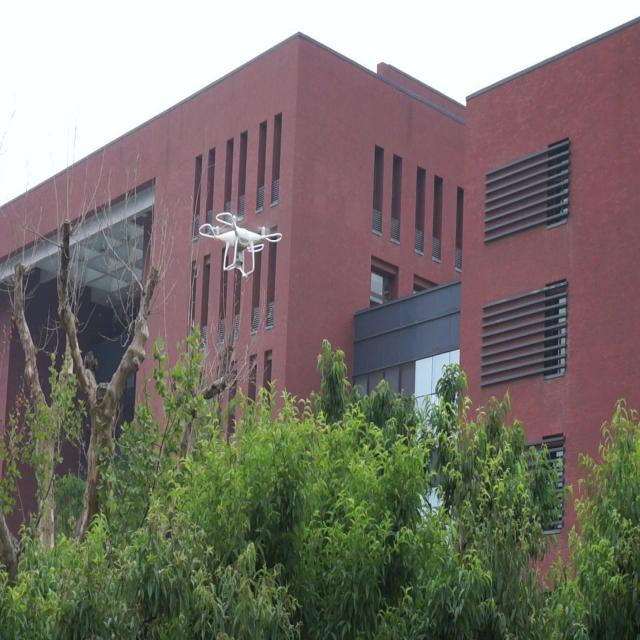UAV: (199, 211, 282, 278)
